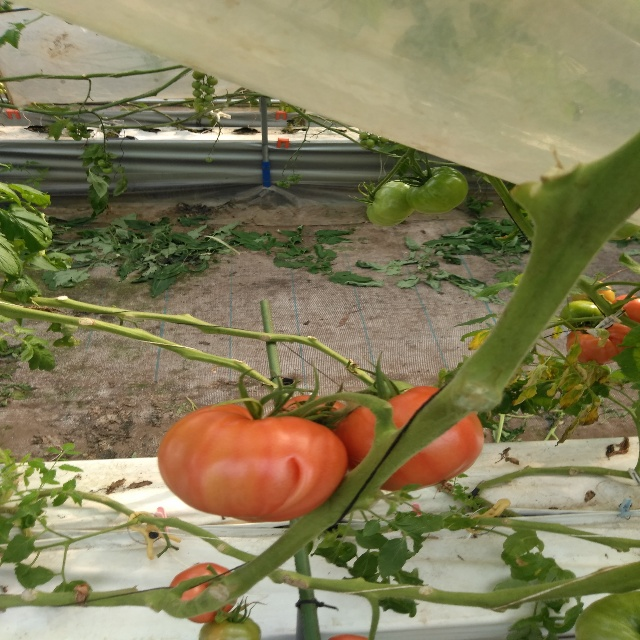b_fully_ripened: (334, 385, 484, 491)
b_green: (574, 590, 639, 640), (406, 167, 469, 215), (366, 180, 414, 226), (198, 612, 261, 640), (559, 301, 606, 331)
b_half_ripened: (157, 402, 349, 523), (170, 563, 238, 623), (567, 322, 634, 365)
